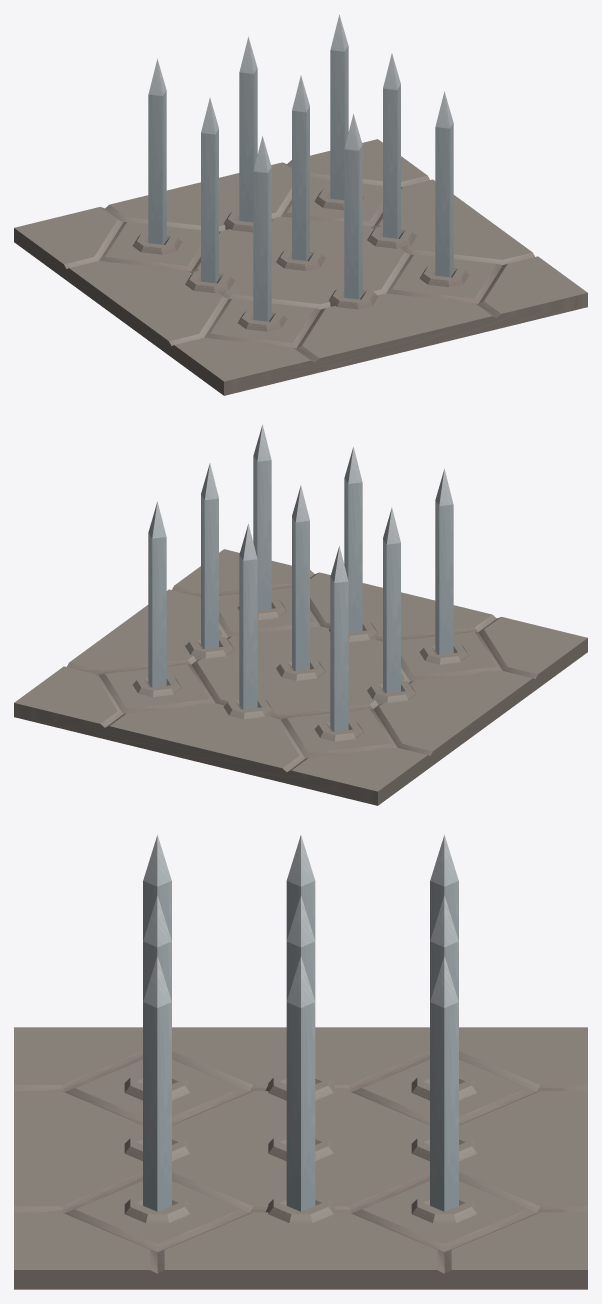
Rendered from floor_tile_big_spikes.glb.
3 renders of one model, top to bottom at view 1: azimuth 30°, elevation 25°; view 2: azimuth 150°, elevation 25°; view 3: azimuth 270°, elevation 25°, orthographic. The views are drawn at different scales.
Parts seen in each view (by area): view 1: floor_tile_big_spikes, spikes; view 2: floor_tile_big_spikes, spikes; view 3: floor_tile_big_spikes, spikes.
Part boxes in pixels (left/top/right/bottom): floor_tile_big_spikes: left=14, top=139, right=587, bottom=395; spikes: left=148, top=14, right=453, bottom=321; floor_tile_big_spikes: left=14, top=549, right=587, bottom=805; spikes: left=148, top=424, right=453, bottom=731; floor_tile_big_spikes: left=14, top=1027, right=587, bottom=1289; spikes: left=143, top=834, right=458, bottom=1211.
Size of the model in its own units: 4 by 2.1 by 4.
1 material, 1 textured.
